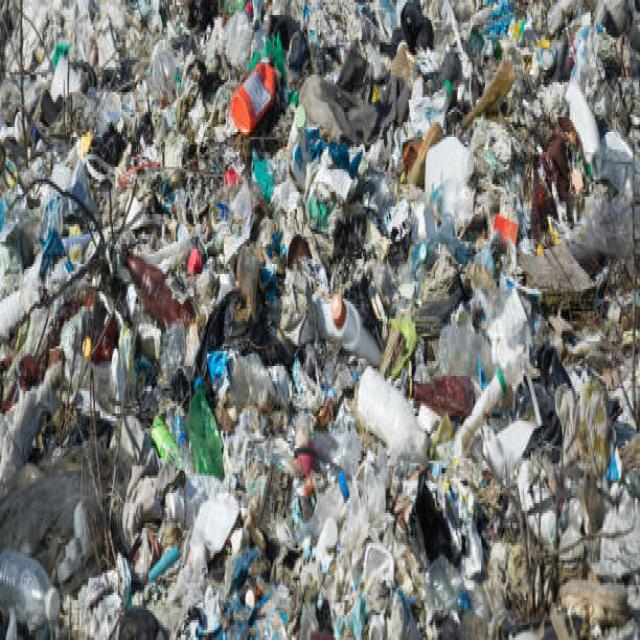plastic: (25, 2, 567, 612)
